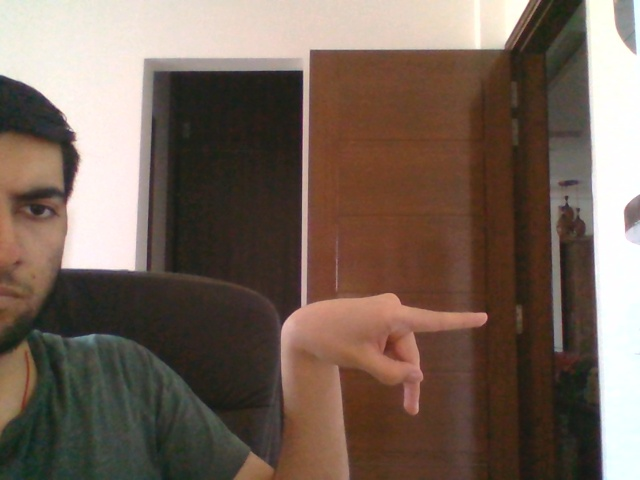LetterP: (280, 292, 489, 417)
